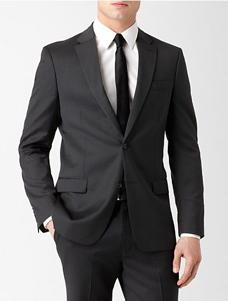F_M_suit jacket: (16, 29, 207, 237)
F_dress pants: (51, 207, 184, 297)
F_tie: (110, 32, 133, 129)
